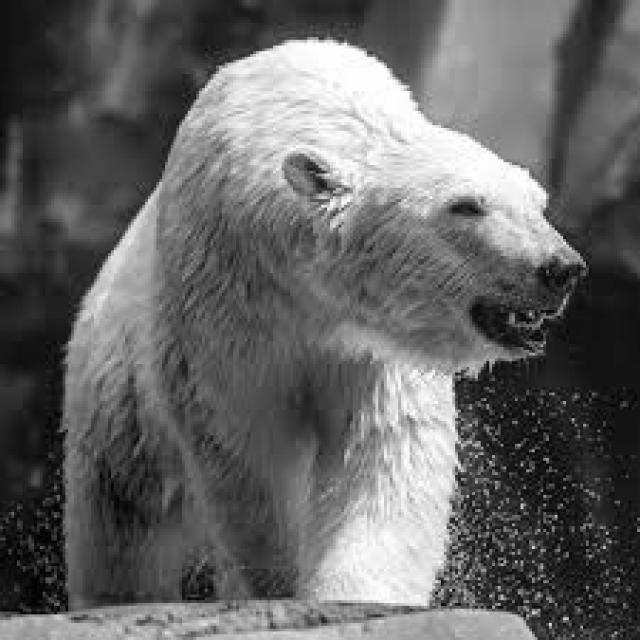Bear: (93, 51, 568, 544)
